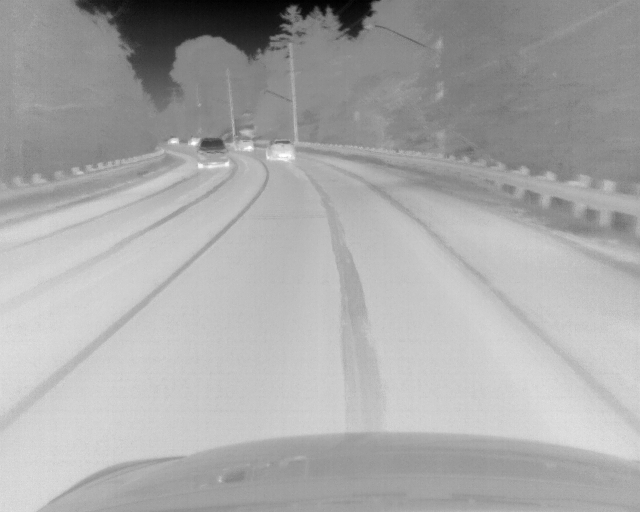car: (195, 138, 229, 169), (265, 139, 295, 163), (232, 135, 254, 152), (188, 137, 200, 146), (166, 137, 179, 144)
